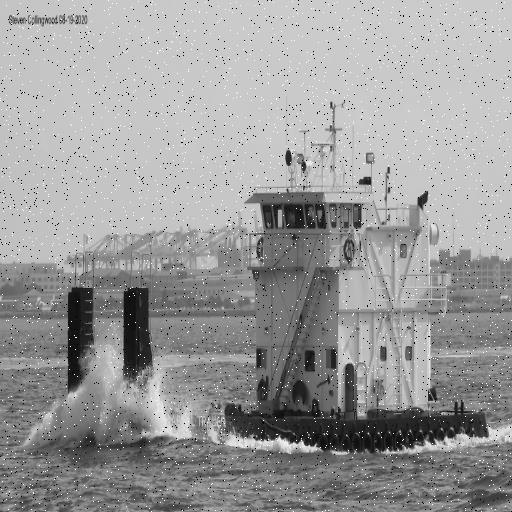tugboat: (56, 93, 494, 468)
